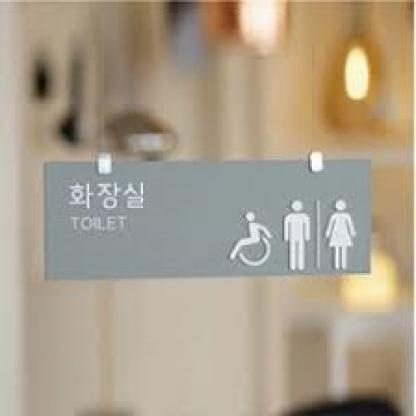toilet: (278, 191, 359, 272)
